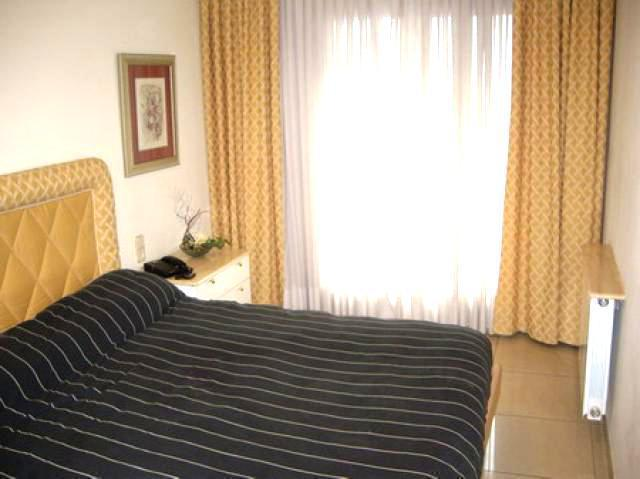Otro Obstaculo: (569, 238, 625, 422)
